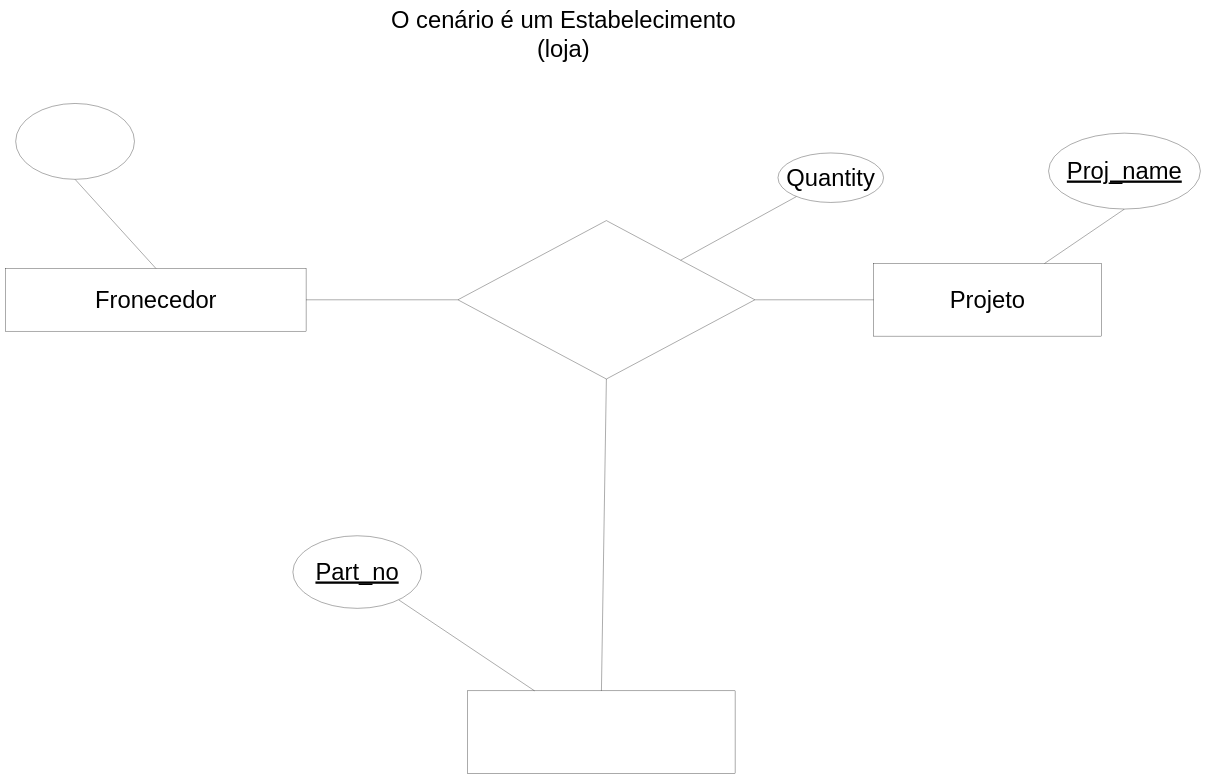
This 1206x779 diagram has some shape labels left out. The centre of each missing label's shape, as x and y in pixels:
"produto" belongs at point (601, 732).
"Sname" belongs at point (74, 141).
"SUPPLY" belongs at point (606, 299).
